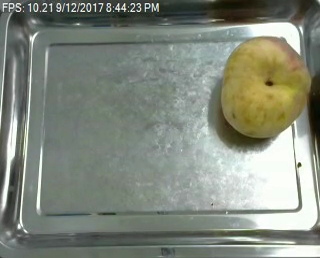Peach: (219, 35, 310, 138)
